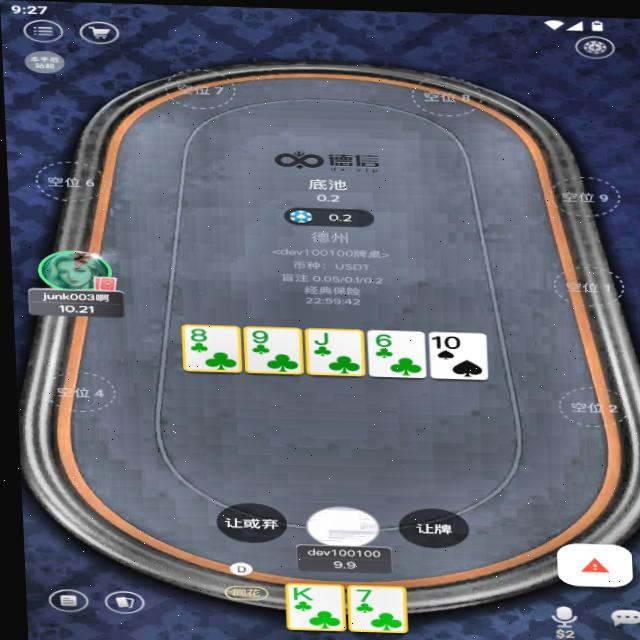10s: (427, 331, 461, 348)
6m: (368, 329, 393, 347)
7m: (347, 585, 370, 602)
8m: (184, 326, 208, 342)
9m: (246, 327, 269, 344)
Jm: (308, 329, 331, 345)
Km: (284, 584, 310, 601)
